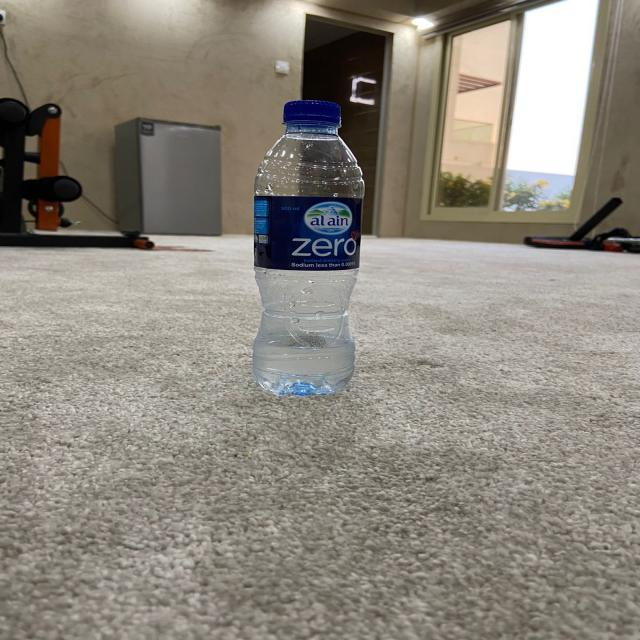chai: (254, 100, 364, 395)
